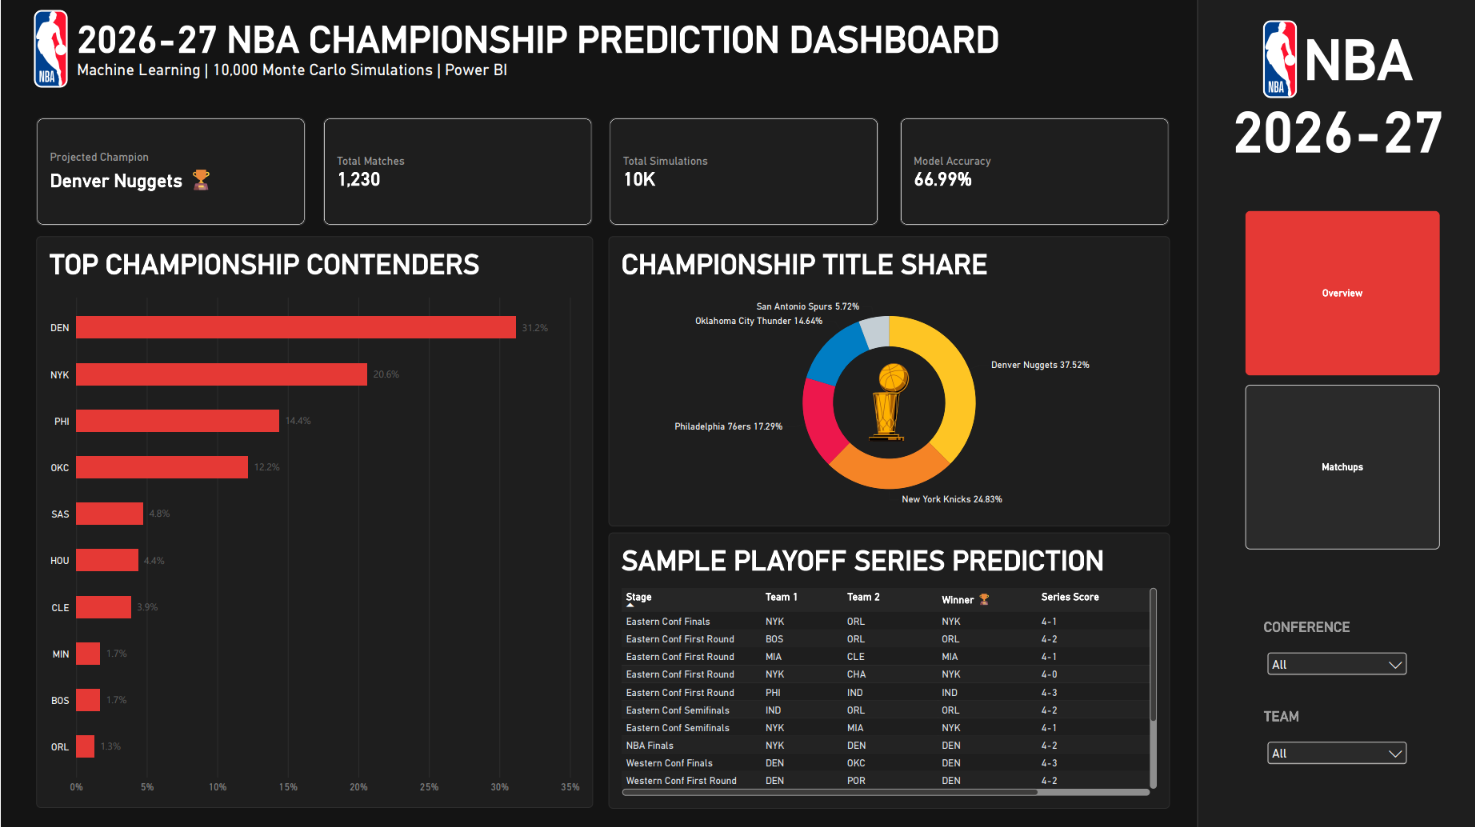

What the dashboard file says about the page in this screenshot:
{"tool":"powerbi","page":{"name":"Overview","canvas":[1920,1080],"ordinal":0},"visuals":[{"type":"textbox","title":"2026-27 NBA CHAMPIONSHIP PREDICTION DASHBOARD","box":[98.8,25,1227.5,80],"z":0},{"type":"image","box":[20,12.5,90,105],"z":1000},{"type":"shape","box":[1556,0,364,1080],"z":2000},{"type":"cardVisual","fields":{"Data":["_Measures.Projected Champion"]},"box":[46.5,155.5,350,140],"z":3000},{"type":"cardVisual","title":"\\","fields":{"Data":["_Measures.Total Matches"]},"box":[419,155.5,350,140],"z":4000},{"type":"cardVisual","fields":{"Data":["_Measures.Total Simulations"]},"box":[791.5,155.5,350,140],"z":5000},{"type":"cardVisual","fields":{"Data":["_Measures.Model Accuracy"]},"box":[1169,155.5,350,140],"z":6000},{"type":"clusteredBarChart","title":"TOP CHAMPIONSHIP CONTENDERS","fields":{"Category":["fact_team_projections.team_id"],"Y":["Sum(fact_team_projections.championship_prob)"]},"box":[45.6,308.9,724.4,743.3],"z":7000},{"type":"donutChart","title":"CHAMPIONSHIP TITLE SHARE","fields":{"Category":["dim_teams.team_name"],"Y":["Sum(fact_team_projections.championship_prob)"]},"box":[790,308.9,730,376.7],"z":8000},{"type":"tableEx","title":"SAMPLE PLAYOFF SERIES PREDICTION","fields":{"Values":["fact_sample_bracket.stage","fact_sample_bracket.team_a","fact_sample_bracket.team_b","fact_sample_bracket.winner","fact_sample_bracket.series_score"]},"box":[790,694,730,359],"z":9000},{"type":"image","box":[1618,26,90,105],"z":10000},{"type":"textbox","title":"NBA","box":[1694,38,150,80],"z":11000},{"type":"textbox","title":"2026-27","box":[1602,132,302,80],"z":12000},{"type":"slicer","title":"CONFERENCE","fields":{"Values":["dim_teams.conference"]},"box":[1642,806,191.4,95.7],"z":13000},{"type":"slicer","title":"TEAM","fields":{"Values":["dim_teams.team_name"]},"box":[1642,922,191.4,95.7],"z":13001},{"type":"pageNavigator","box":[1618.1,276.4,253.8,441.3],"z":13002}]}

Visuals, with their boxes in screenshot pixels (x1, y1, x2, y2), scaled from the page's 1920x1080 canvas onto the 1475x827 screenshot:
"2026-27 NBA CHAMPIONSHIP PREDICTION DASHBOARD" textbox: <bbox>76, 19, 1019, 80</bbox>
image: <bbox>15, 10, 85, 90</bbox>
shape: <bbox>1195, 0, 1474, 826</bbox>
cardVisual - _Measures.Projected Champion: <bbox>36, 119, 305, 226</bbox>
"\" cardVisual: <bbox>322, 119, 591, 226</bbox>
cardVisual - _Measures.Total Simulations: <bbox>608, 119, 877, 226</bbox>
cardVisual - _Measures.Model Accuracy: <bbox>898, 119, 1167, 226</bbox>
"TOP CHAMPIONSHIP CONTENDERS" clusteredBarChart: <bbox>35, 237, 592, 806</bbox>
"CHAMPIONSHIP TITLE SHARE" donutChart: <bbox>607, 237, 1168, 525</bbox>
"SAMPLE PLAYOFF SERIES PREDICTION" tableEx: <bbox>607, 531, 1168, 806</bbox>
image: <bbox>1243, 20, 1312, 100</bbox>
"NBA" textbox: <bbox>1301, 29, 1417, 90</bbox>
"2026-27" textbox: <bbox>1231, 101, 1463, 162</bbox>
"CONFERENCE" slicer: <bbox>1261, 617, 1408, 690</bbox>
"TEAM" slicer: <bbox>1261, 706, 1408, 779</bbox>
pageNavigator: <bbox>1243, 212, 1438, 550</bbox>
